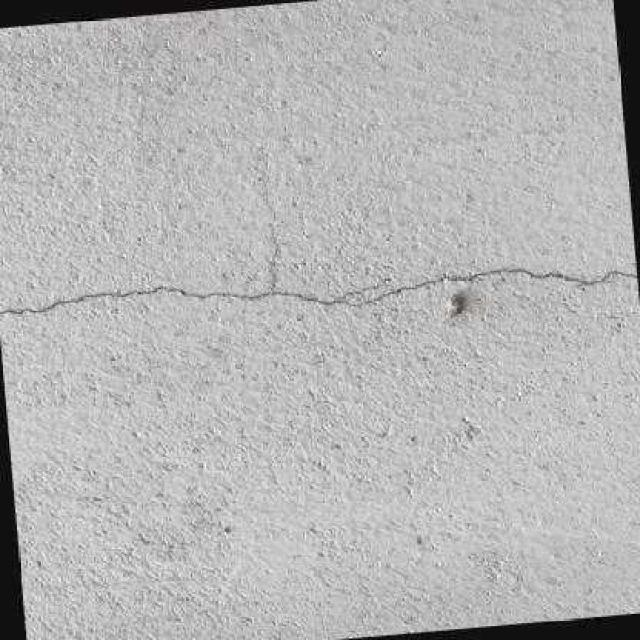D00: (0, 170, 383, 315), (355, 268, 637, 305)
